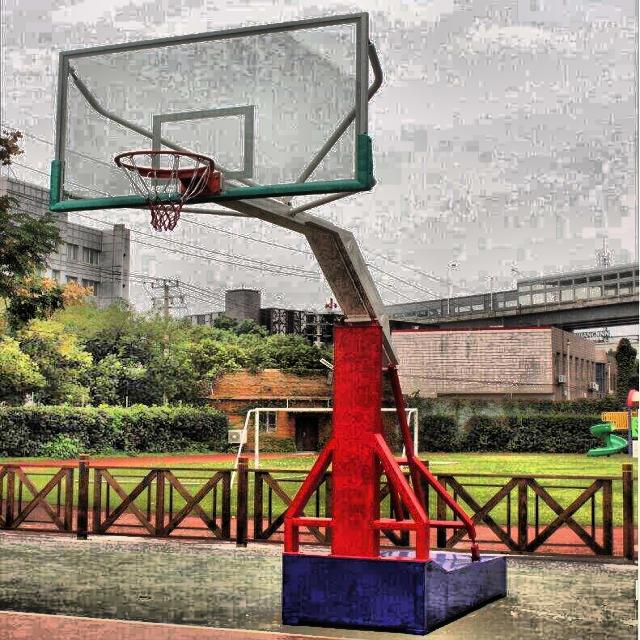rim: (115, 149, 216, 228)
